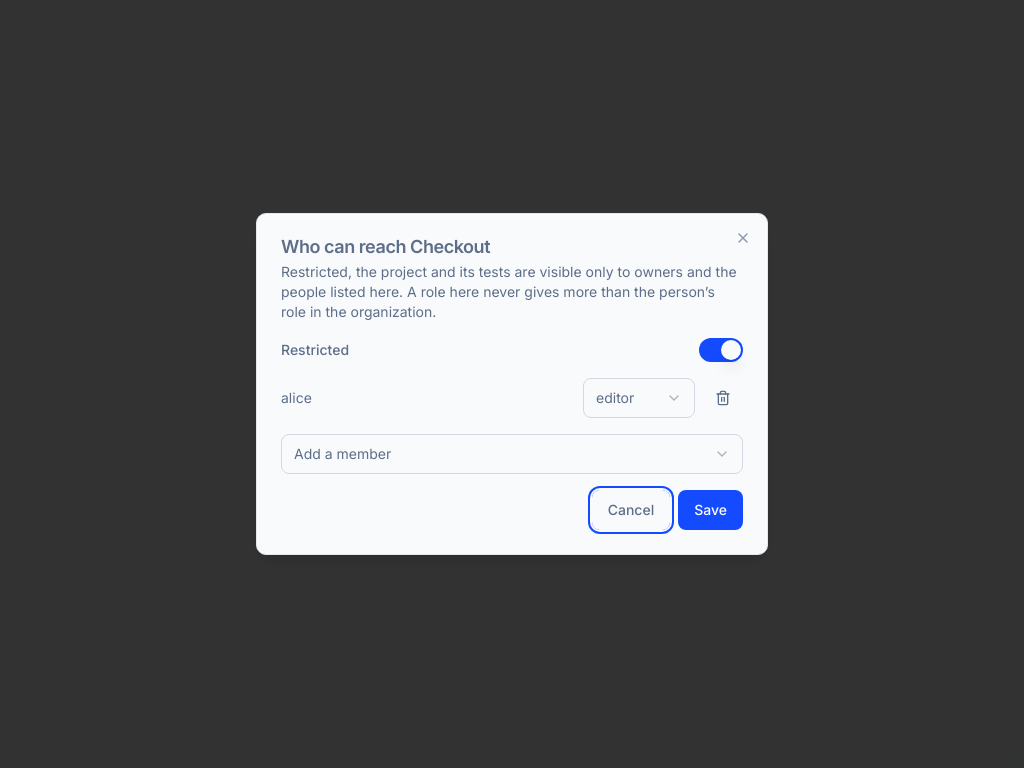
Test: ProjectAccessDialog › does not offer owners, or people already listed, as members
Expected: the list with test id "project-members" is shown, [281,378,743,418]
Click the dropdown labelled "Add a member" at (343, 454), box [281,434,743,474]
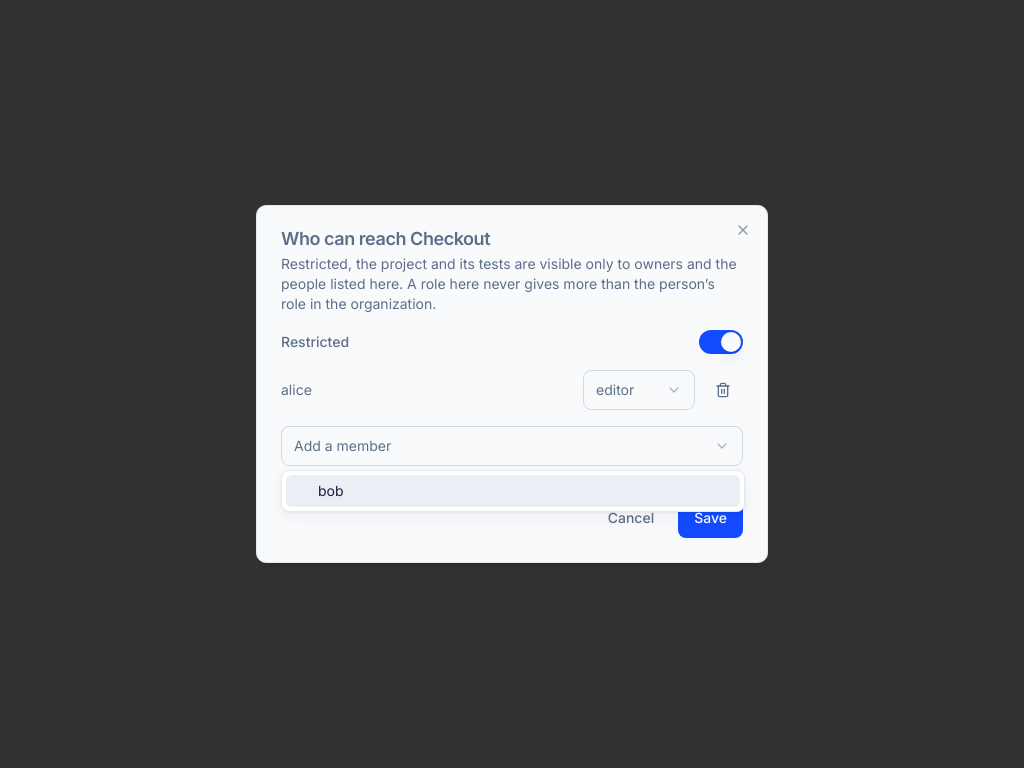
Now the options read "bob", in this order, box [286,475,740,507]
